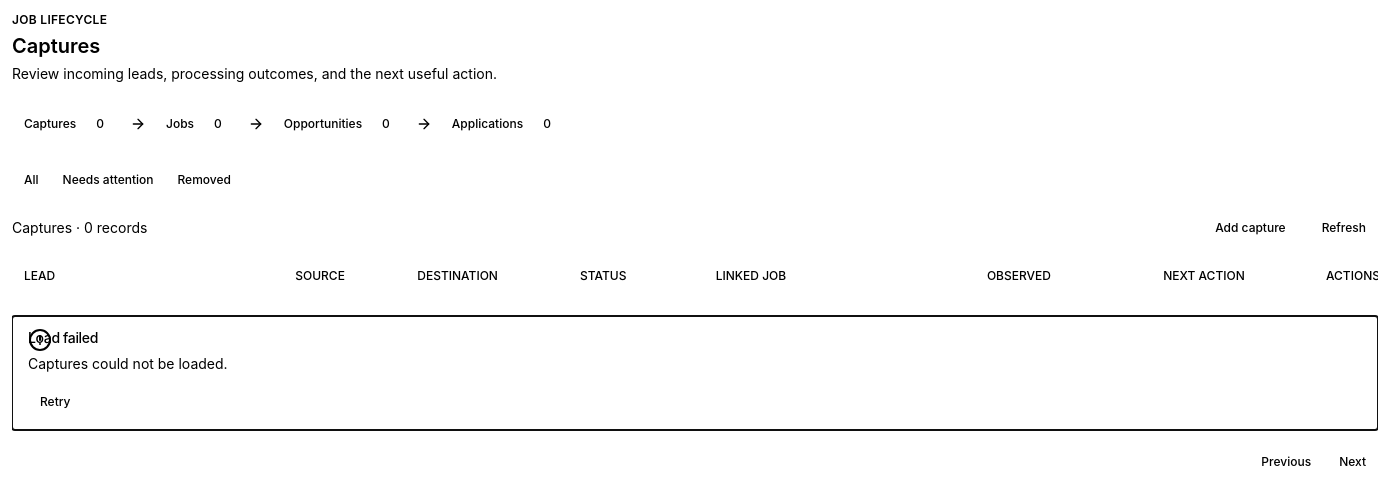
Test: A308-5: separate loading/error/empty state per mode › shows safe error state with retry for Action Queue mode (no raw Error.message)
Click the button "Applications 0": click(504, 124) [440,108,569,140]
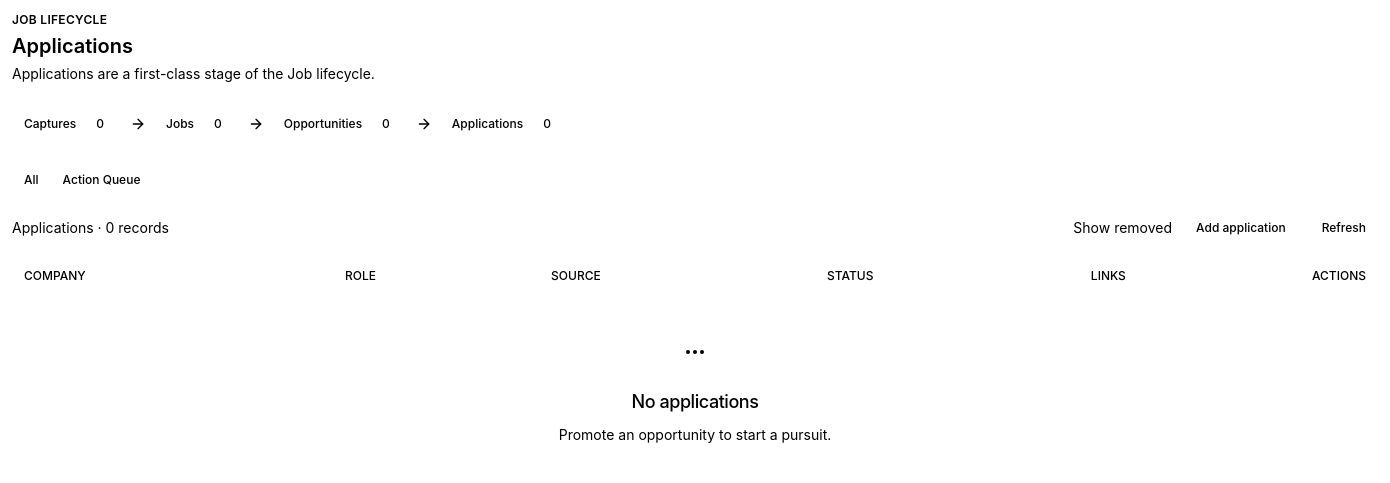
Click the radio button labelled "Action Queue": click(102, 180) [51,164,152,196]
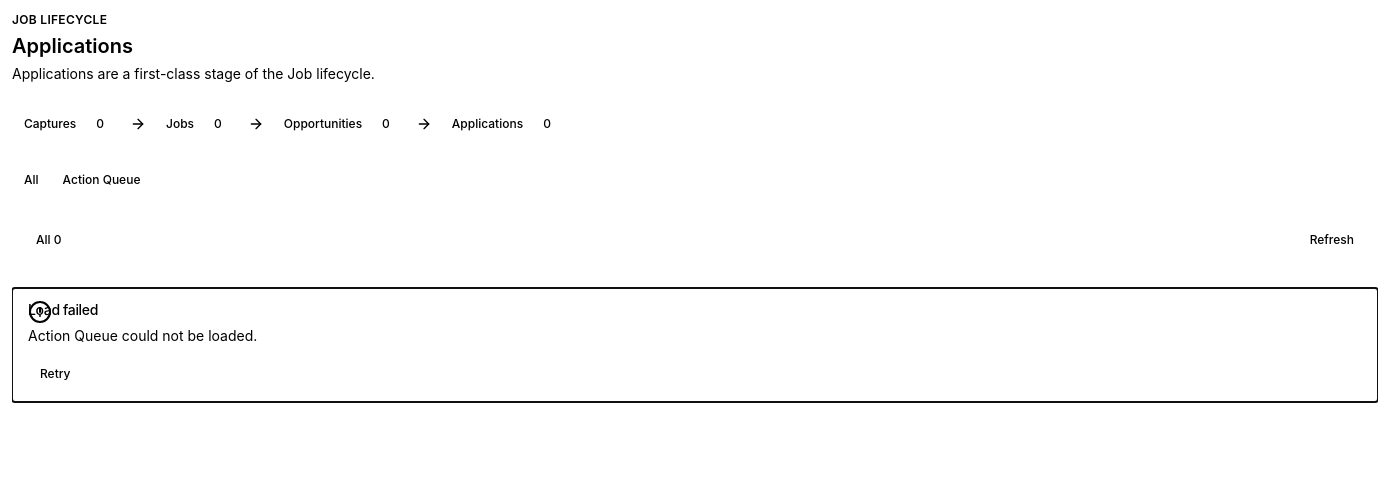
Expected: the message does not show "queue unavailable", [28,300,257,390]
Now the message shows "Action Queue could not be loaded.", box [28,327,257,344]
Click the button "Retry": click(55, 374) [28,358,82,390]
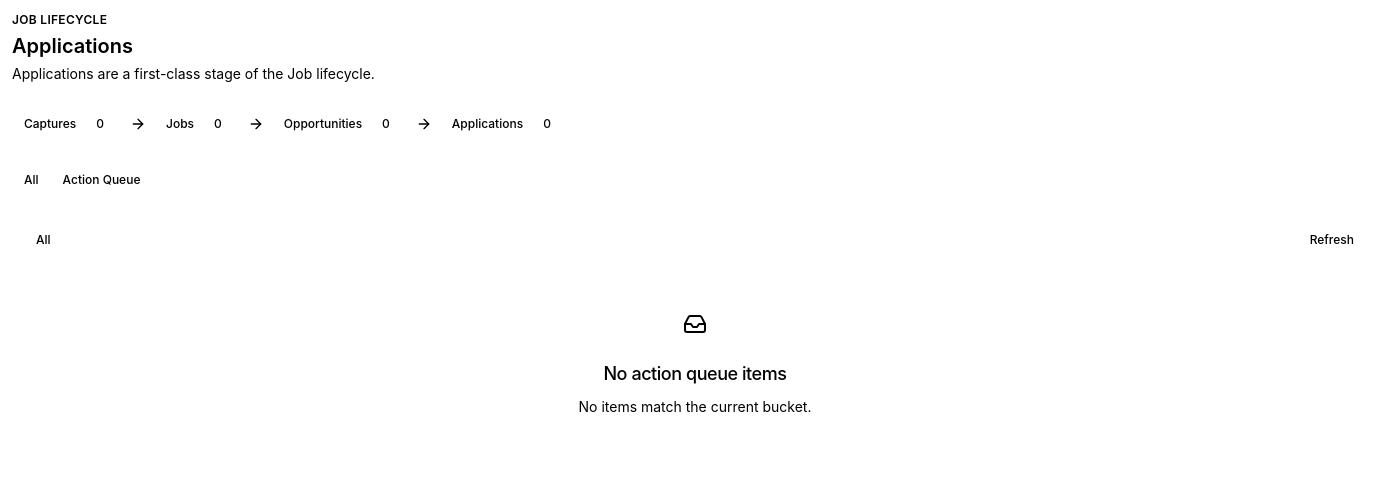
Now the element named "Empty action queue" is shown, box [578,312,812,415]
